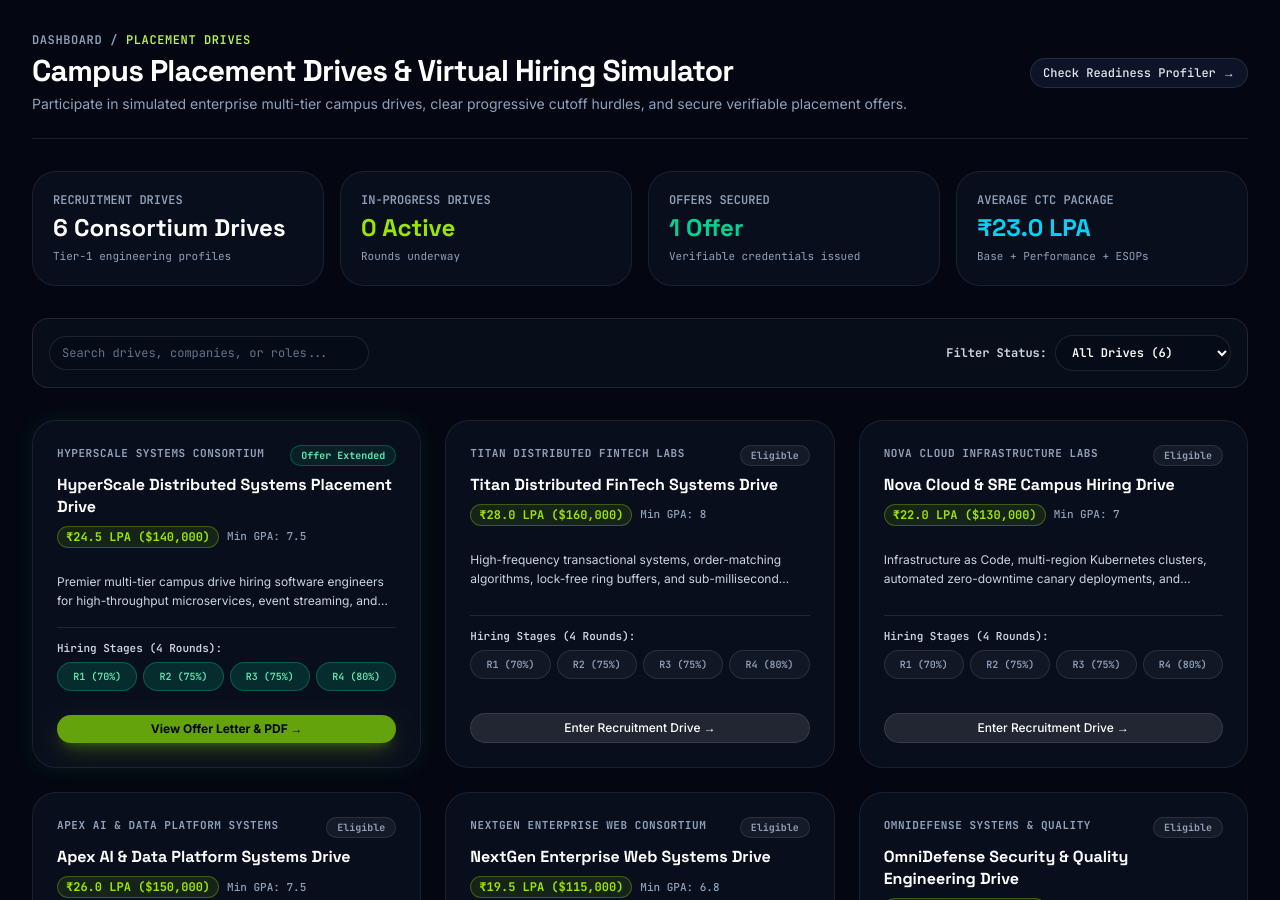
Test: DrivesHubPage › filters drives by application status
The image size is (1280, 900).
Select "Offers Secured (1)" in the dropdown named "Status Filter". click: [1143, 352]
box: x1=1055 y1=334 x2=1231 y2=370
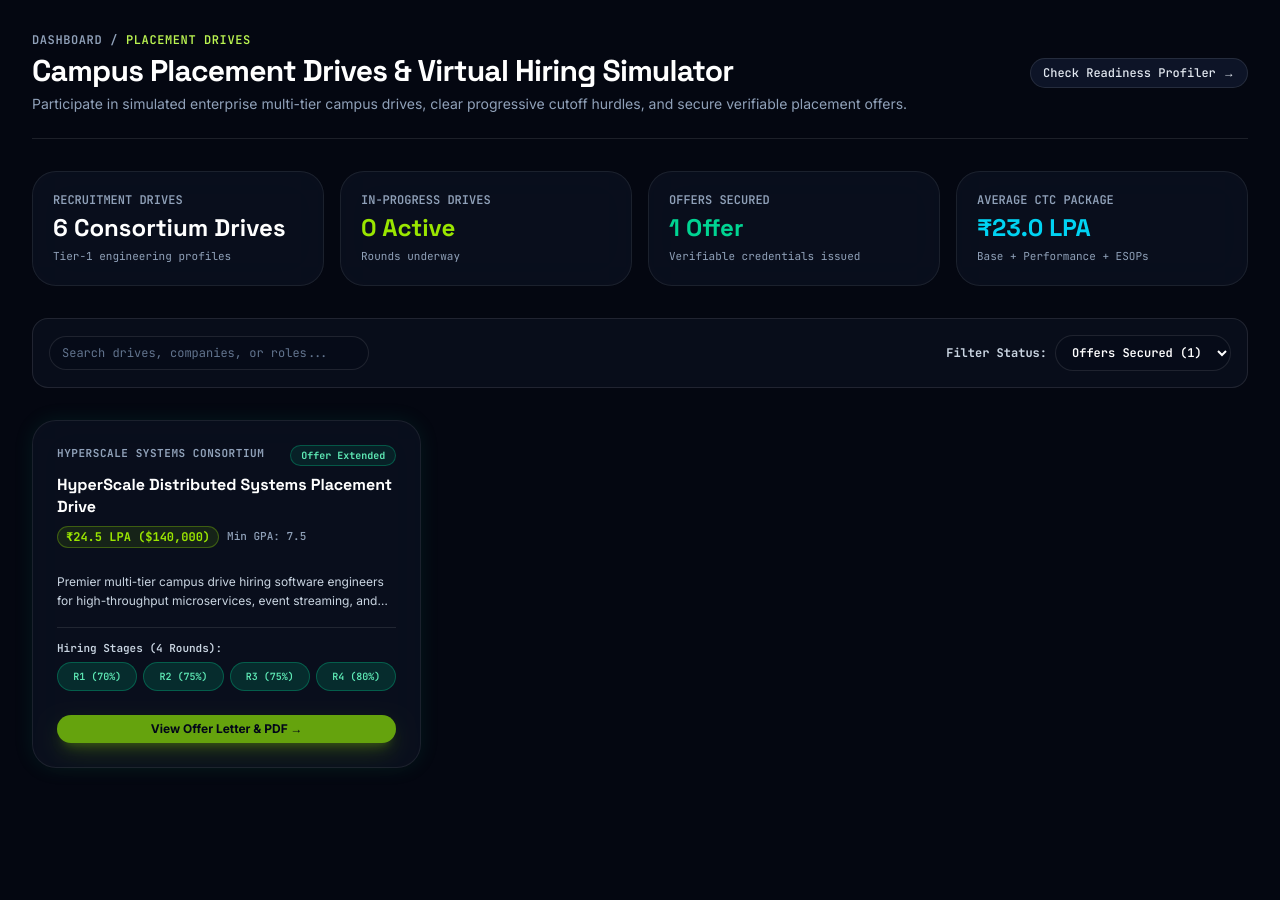
Expected: the text "HyperScale Systems Consortium" is shown, x1=57 y1=444 x2=264 y2=461
Result: the text "Titan Distributed FinTech Labs" is gone
